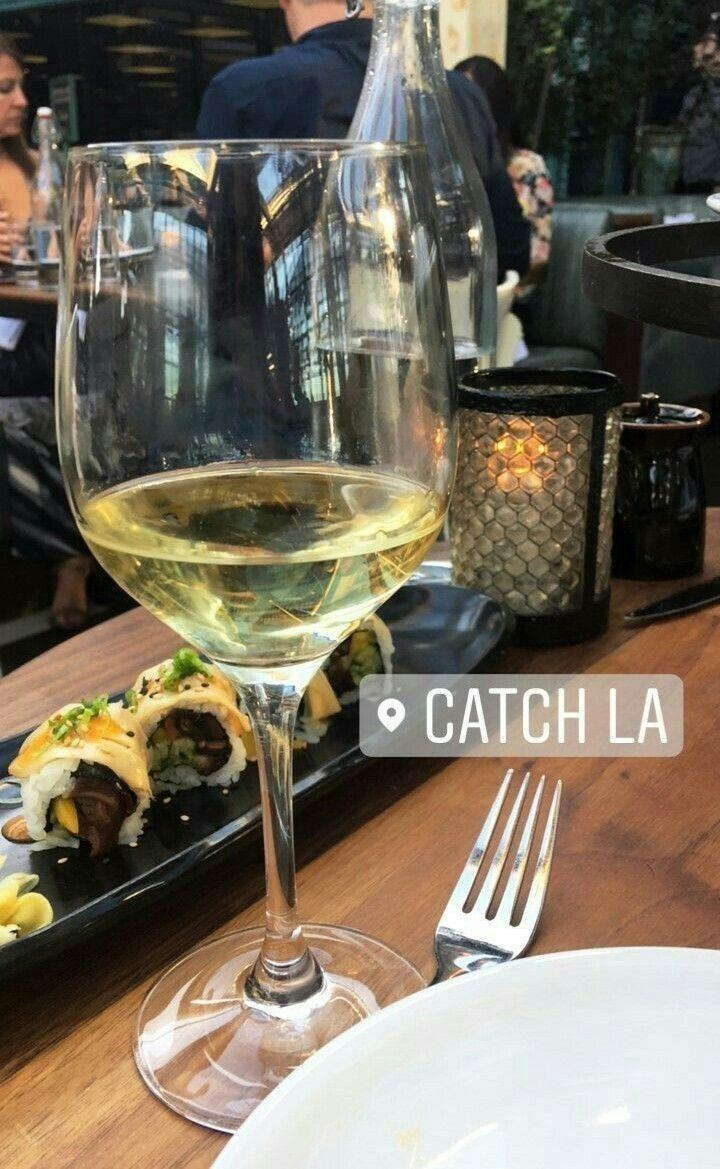glass-wine: (50, 125, 462, 1145)
